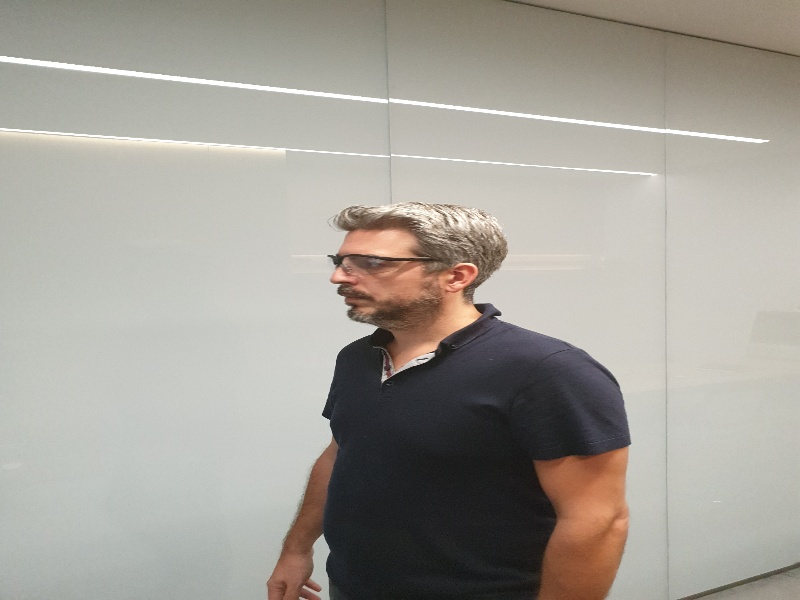Gozluk: (328, 253, 440, 272)
